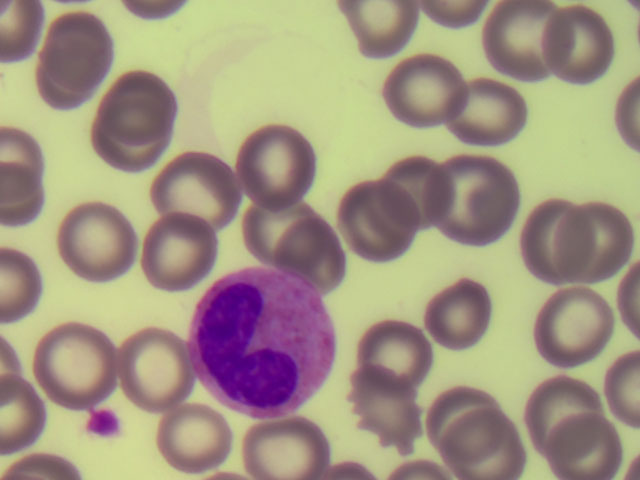Platelets: (85, 404, 122, 439)
RBC: (39, 13, 119, 87), (103, 65, 183, 139), (92, 106, 172, 180), (57, 206, 137, 280), (138, 212, 218, 286), (158, 153, 238, 227), (240, 126, 320, 200), (233, 179, 313, 253), (285, 219, 365, 293), (337, 181, 417, 255), (374, 158, 454, 232), (445, 156, 525, 230), (505, 200, 585, 274), (552, 208, 632, 282), (536, 284, 616, 358), (420, 282, 500, 356), (356, 318, 436, 392), (346, 372, 426, 446), (425, 370, 505, 444), (455, 406, 535, 480), (519, 363, 599, 437), (547, 406, 627, 480), (252, 406, 332, 480), (158, 406, 238, 480), (119, 336, 199, 410), (33, 330, 113, 404), (541, 10, 619, 83), (457, 79, 535, 152), (387, 53, 465, 126), (480, 1, 558, 73), (333, 1, 417, 58), (1, 126, 52, 219), (1, 365, 52, 458), (1, 244, 57, 319), (1, 1, 45, 60), (607, 352, 640, 423)
WBC: (186, 266, 339, 422)
